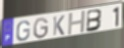1: (112, 6, 121, 28)
B: (85, 8, 104, 33)
G: (33, 17, 50, 40), (15, 20, 31, 42)
H: (67, 10, 87, 37)
K: (52, 15, 66, 37)
